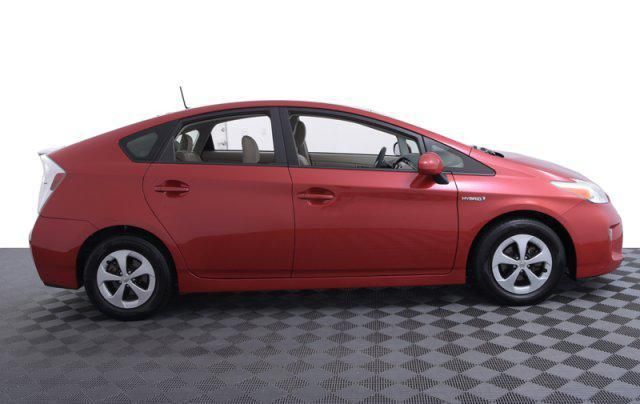Toyota Prius: (27, 96, 626, 325)
